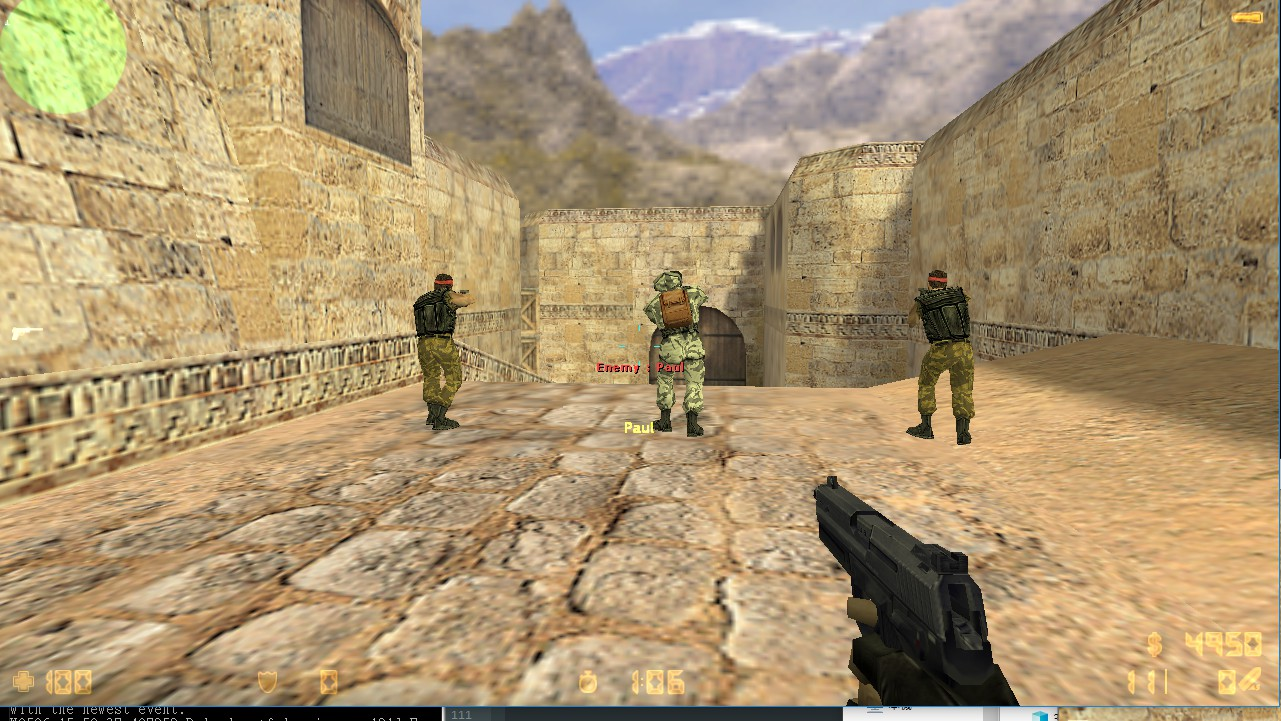person: (904, 258, 979, 450), (638, 261, 711, 449), (410, 270, 465, 436)
